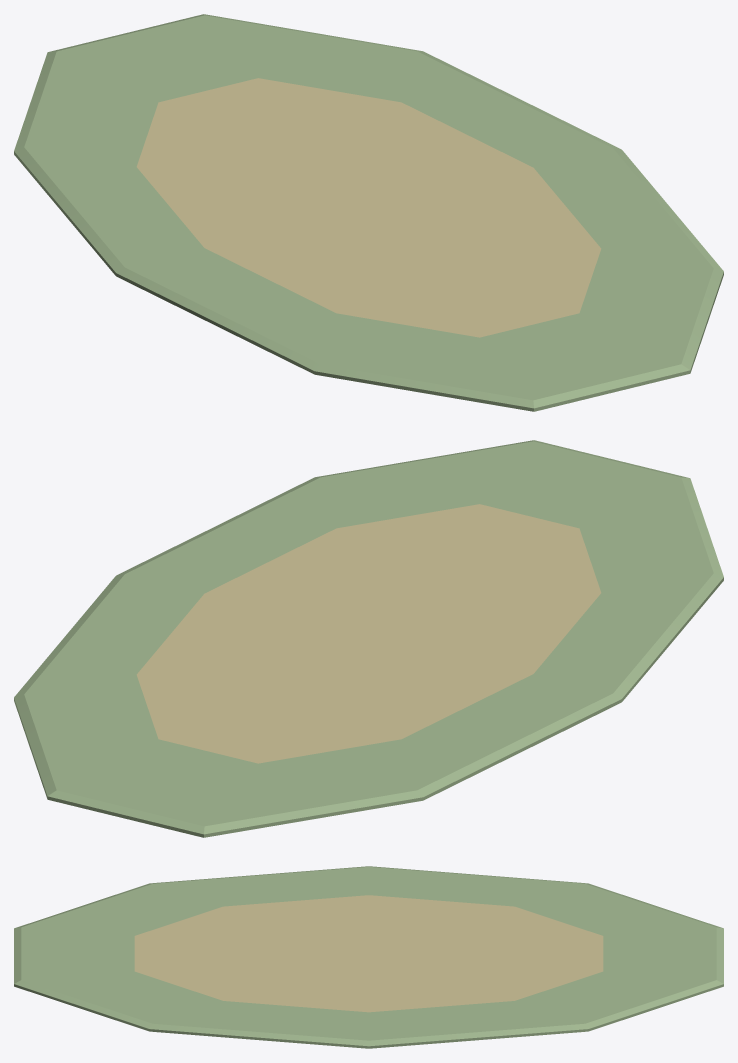
File: geo_rug_02.fbx
3 renders of one model, top to bottom at view 1: azimuth 30°, elevation 25°; view 2: azimuth 150°, elevation 25°; view 3: azimuth 270°, elevation 25°, orthographic. The views are drawn at different scales.
Parts seen in each view (by area): view 1: geo_rug_01; view 2: geo_rug_01; view 3: geo_rug_01.
Boxes of the visible parts, left/top/right/bottom form: geo_rug_01: left=14, top=14, right=723, bottom=411; geo_rug_01: left=14, top=440, right=723, bottom=837; geo_rug_01: left=14, top=866, right=723, bottom=1048.
Bounding box in the file's own units: 227 × 2.93 × 378.
